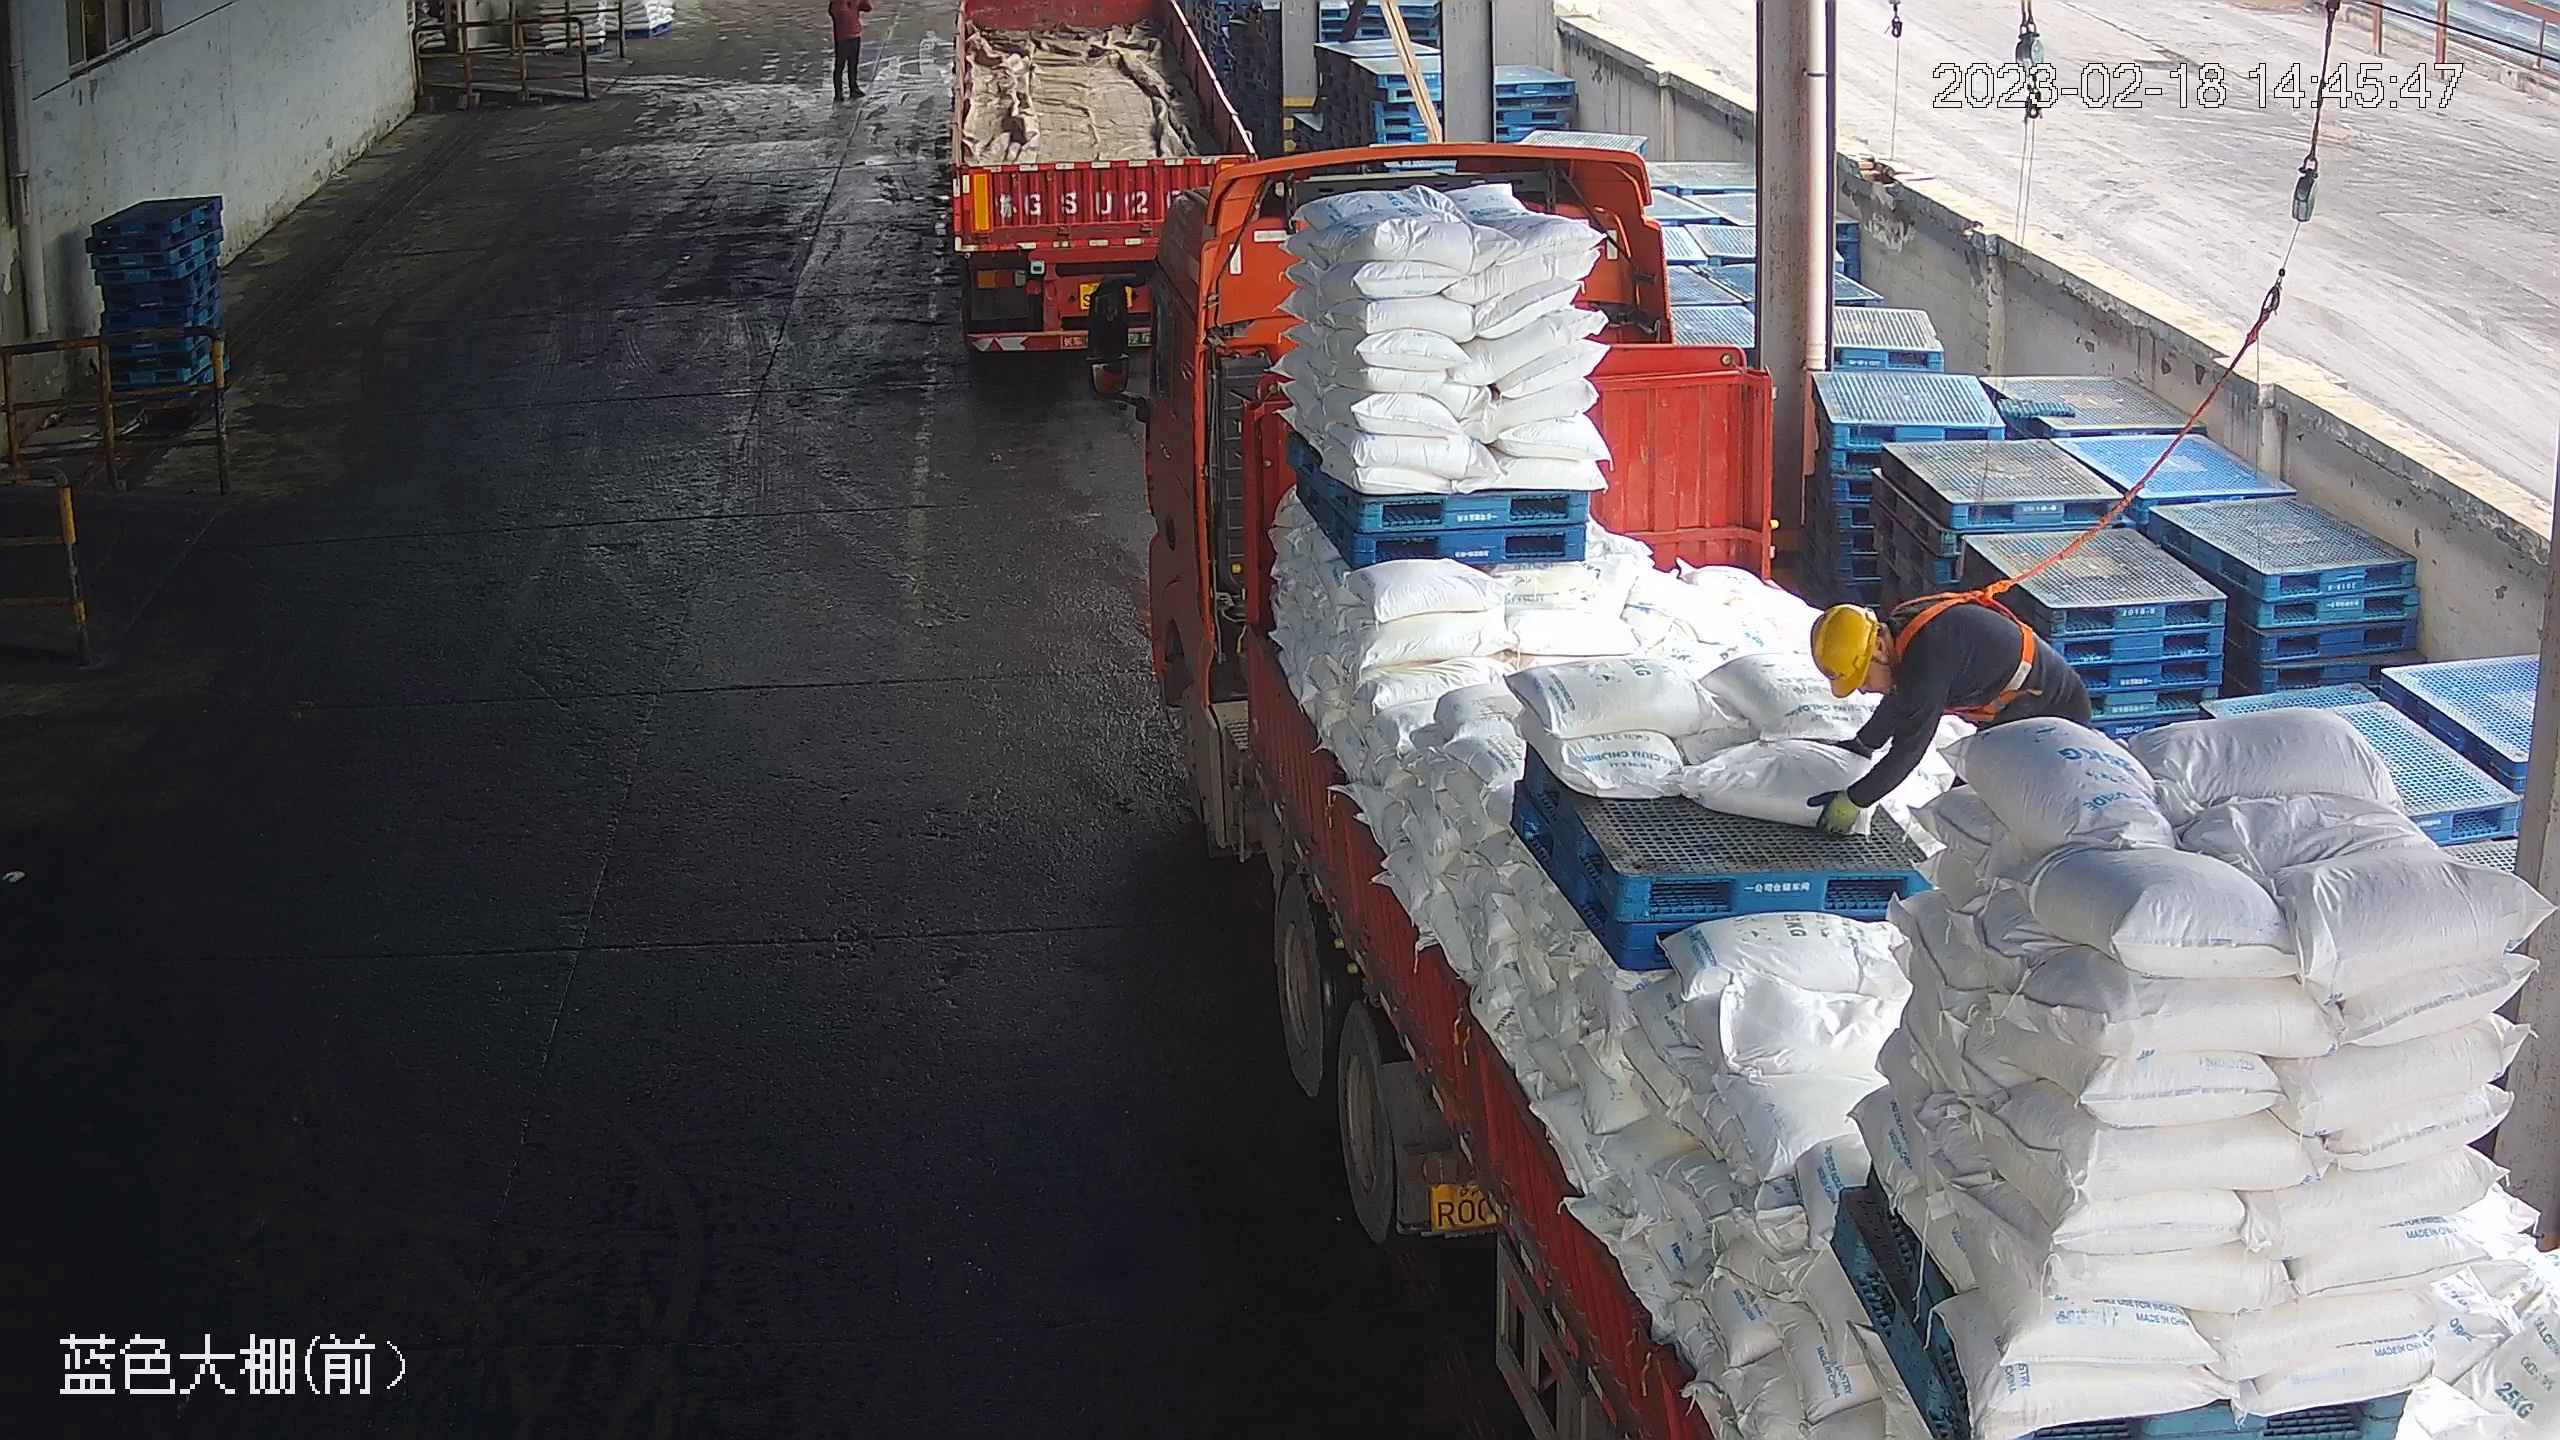belt: (1893, 579, 2043, 718)
head: (1807, 587, 1967, 715)
helmet: (1807, 601, 1877, 698)
people: (1804, 587, 2097, 852)
truck: (1085, 141, 2555, 1434), (946, 2, 1258, 353)
